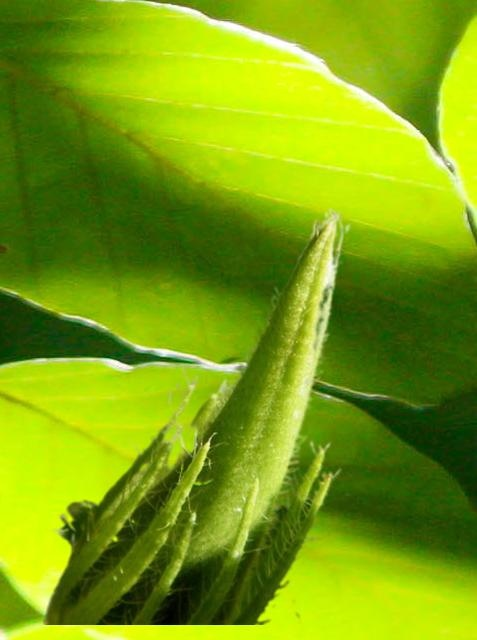okra: (38, 206, 350, 623)
